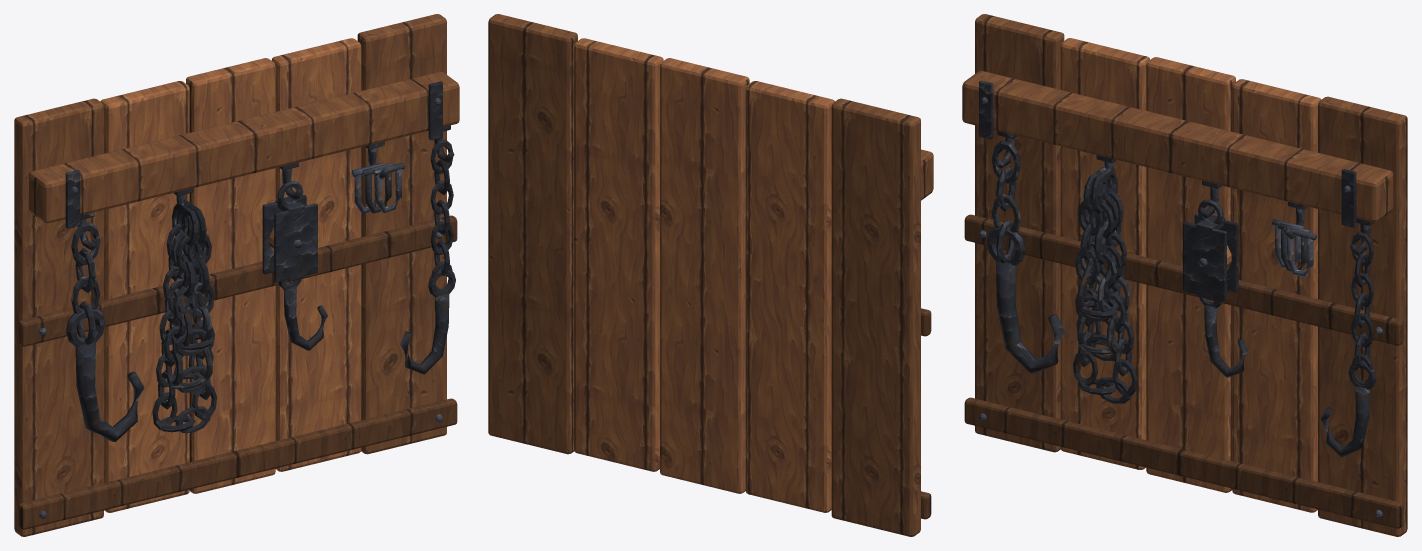
Rendered from hw_chain_hook_wall.glb.
3 renders of one model, left to right at view 1: azimuth 30°, elevation 25°; view 2: azimuth 150°, elevation 25°; view 3: azimuth 330°, elevation 25°, orthographic.
Parts seen in each view (by area): view 1: model; view 2: model; view 3: model.
Boxes of the visible parts, x1=… form: model: x1=14, y1=14, x2=459, y2=536; model: x1=488, y1=14, x2=933, y2=536; model: x1=962, y1=14, x2=1407, y2=536.
Size of the model in its own units: 1.32 by 1.21 by 0.216.
5 materials, 5 textured.
